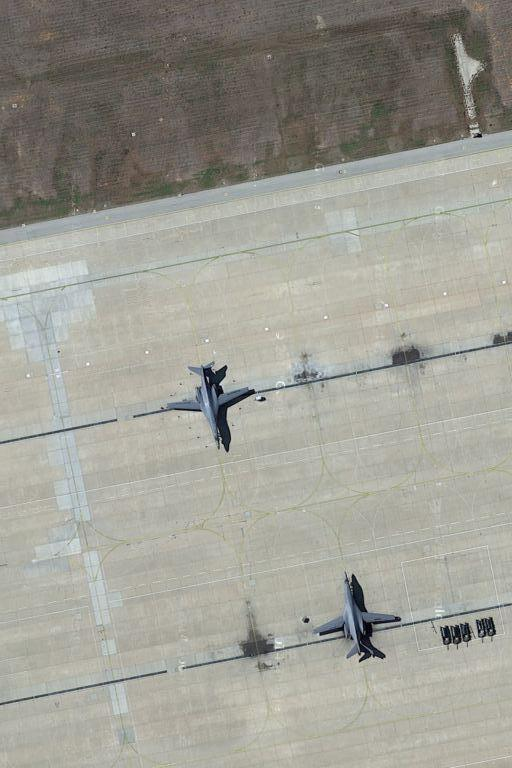B-1B: (166, 353, 255, 455), (313, 566, 403, 665)
